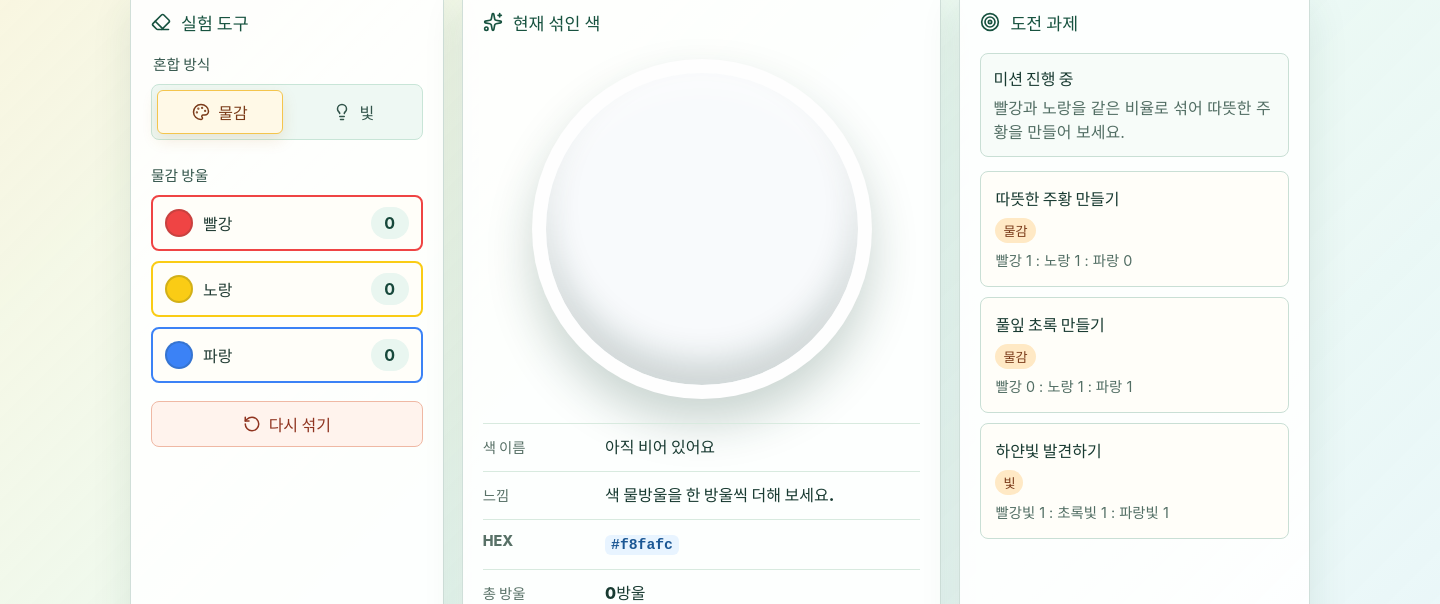
Test: App › generates an observation card text from the current mix and note
Click the button with aria-label "빨강 한 방울 추가". click: (390, 223)
box: 151,195 -> 423,251
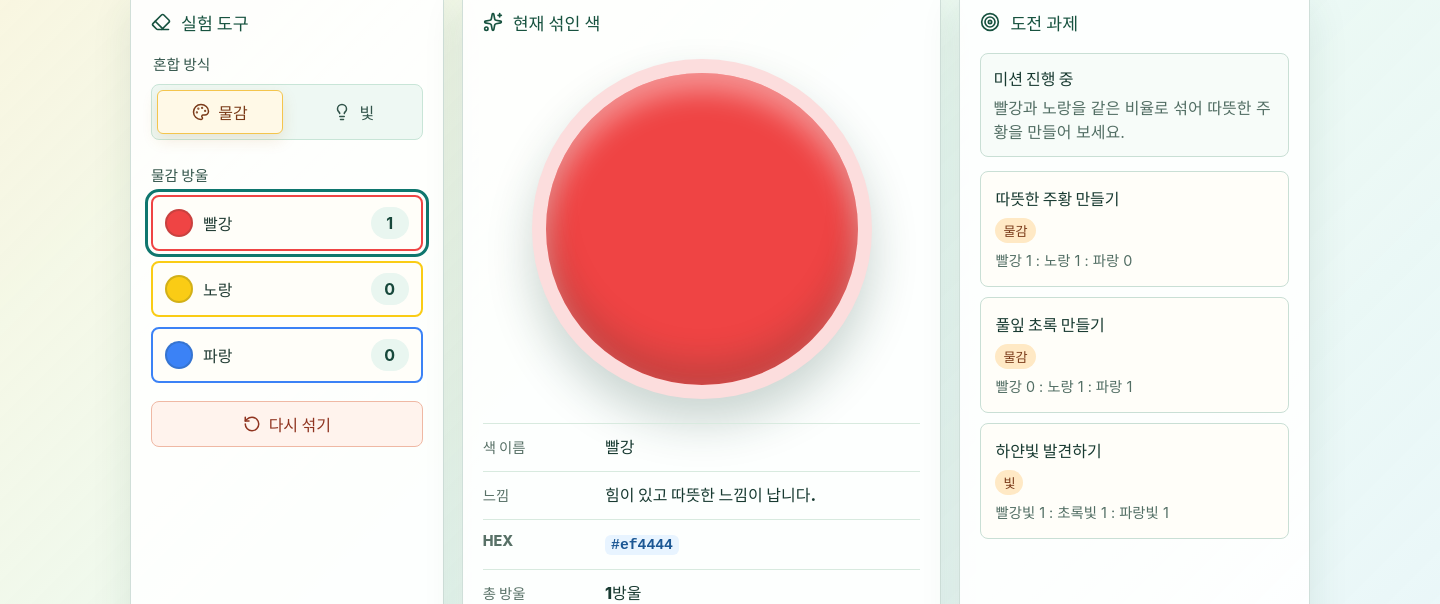
Click the button with aria-label "노랑 한 방울 추가". click: (390, 289)
box: 151,261 -> 423,317
(page scrolled)
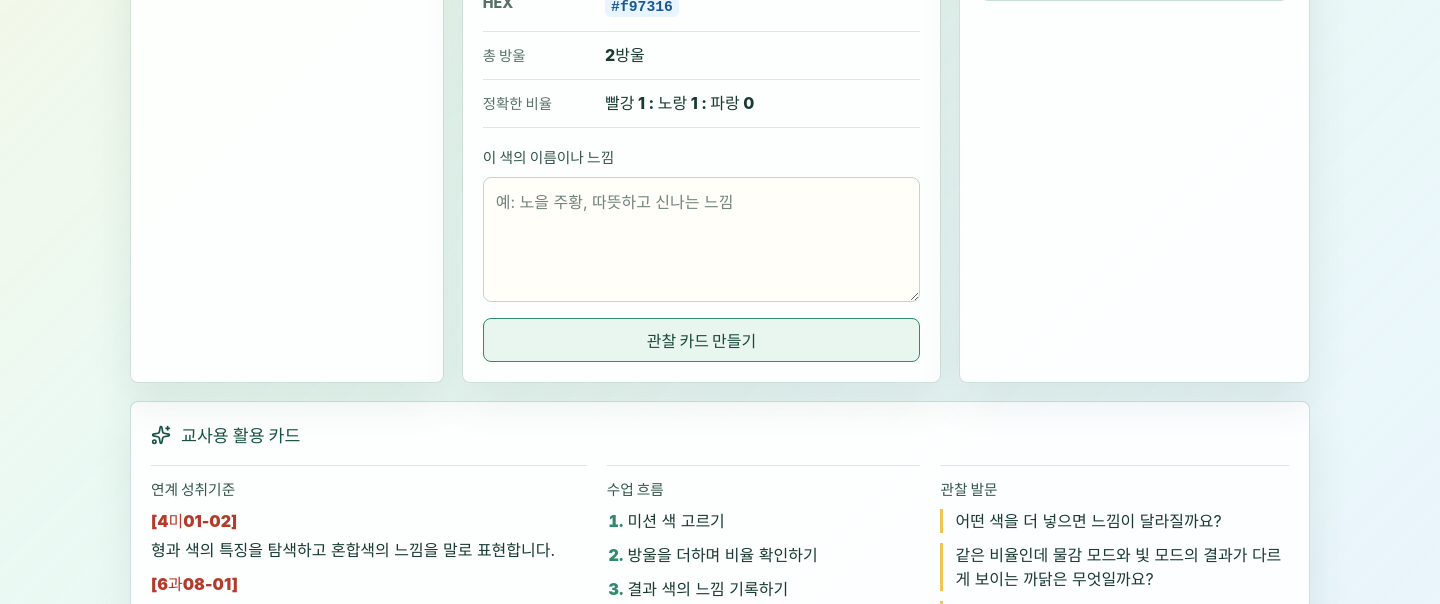
Type "따뜻한 귤색 같아요." into the text box labelled "이 색의 이름이나 느낌". click: (702, 240)
box: 483,177 -> 920,302
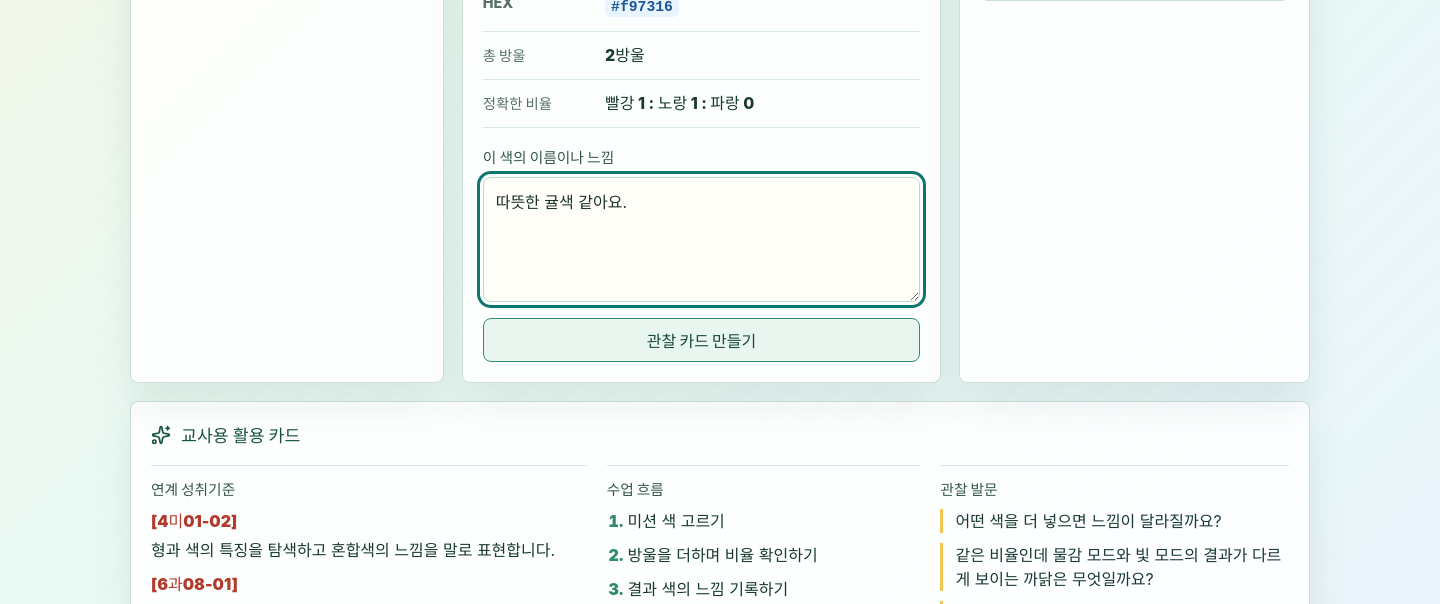
Click the button "관찰 카드 만들기". click: (702, 340)
box: 483,318 -> 920,362
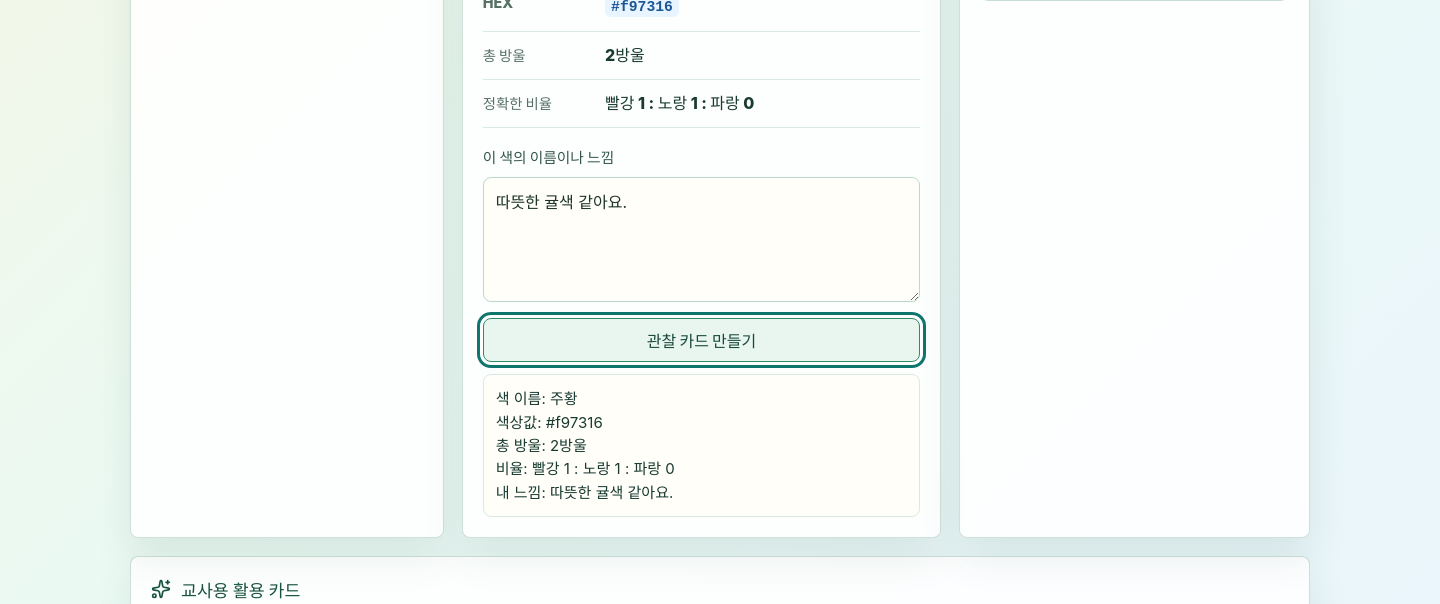
Check: the text named "관찰 카드" shows "색 이름: 주황", box 496,389 -> 675,502
Check: the text named "관찰 카드" shows "비율: 빨강 1 : 노랑 1 : 파랑 0", box 496,389 -> 675,502
Check: the text named "관찰 카드" shows "내 느낌: 따뜻한 귤색 같아요.", box 496,389 -> 675,502
